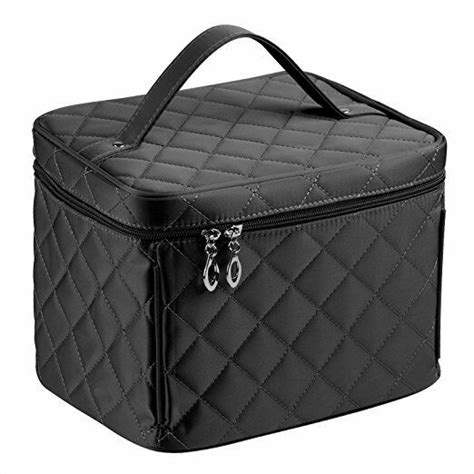nylon: (30, 71, 442, 457)
